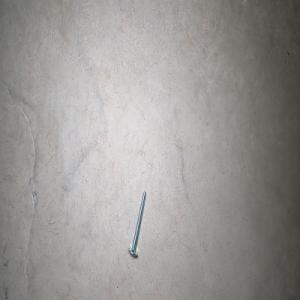Bolt: (127, 189, 146, 257)
